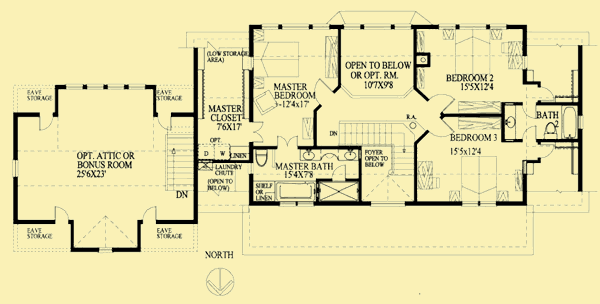bathroom has a small and large sink with tub: (498, 99, 581, 145)
master bathroom has dual sink, tub space, shower and large sink: (249, 148, 362, 209)
master bedroom has a double bed with bedside stands: (412, 116, 526, 208), (412, 26, 525, 106)
master bedroom has a double bed with small couch: (251, 24, 342, 148)
